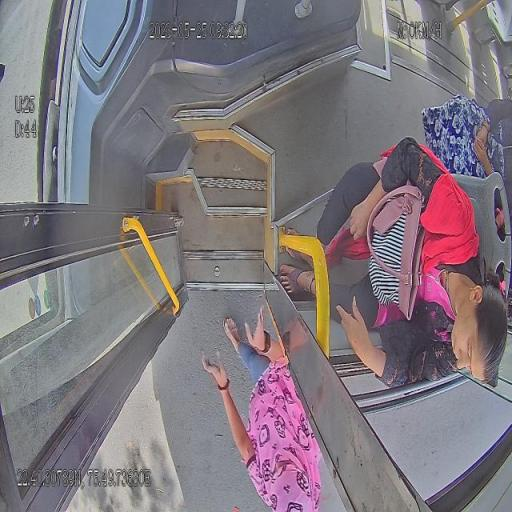persona: (277, 136, 508, 390), (201, 304, 322, 511), (420, 93, 508, 234)
